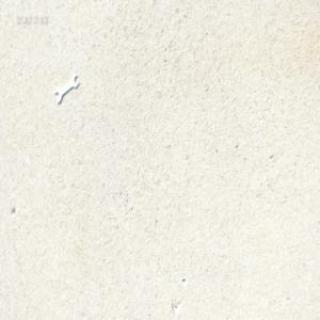Wrenchtrack_idkeyframe: (52, 70, 77, 104)
